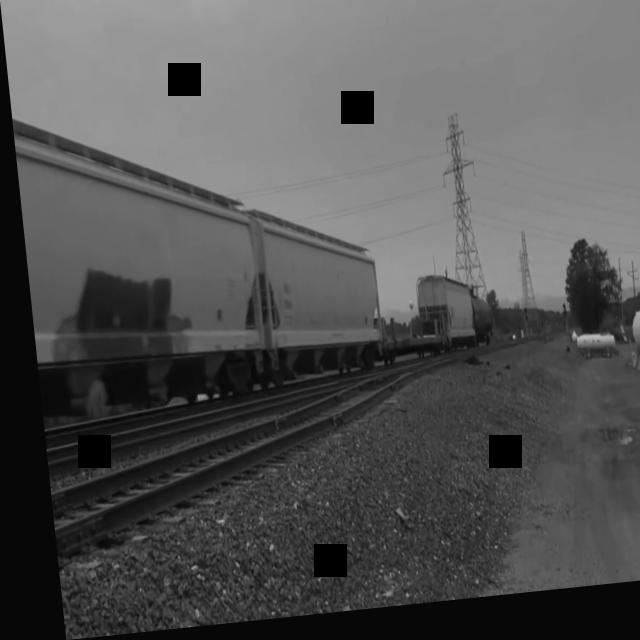flatcar: (370, 319, 438, 373)
hopper: (5, 41, 266, 447), (245, 203, 380, 394), (407, 275, 470, 366)
tank: (463, 299, 489, 359)
